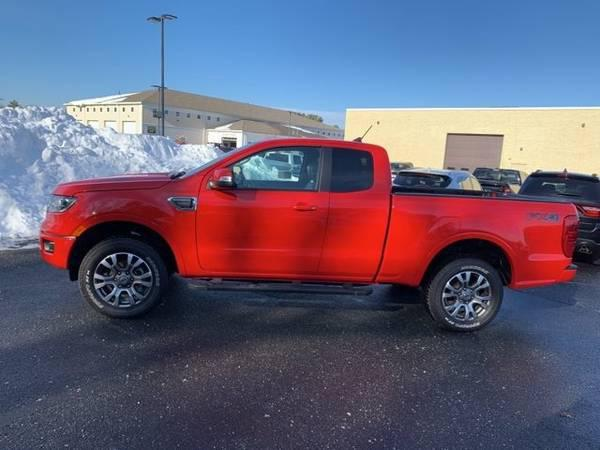Front_Fender: (44, 176, 204, 275)
Front_Left_Door: (196, 188, 330, 281)
Front_Left_Window: (202, 145, 332, 190)
Left_Headlight: (44, 195, 78, 215)
Left_Taillight: (561, 213, 581, 256)
Rear_Bumper: (37, 230, 77, 270)
Rear_Fender: (374, 194, 576, 285)
Rear_Left_Door: (315, 193, 391, 283)
Rear_Left_Window: (329, 147, 376, 194)
Roof: (199, 135, 395, 191)
Wheel: (79, 237, 169, 323), (427, 255, 504, 330)
